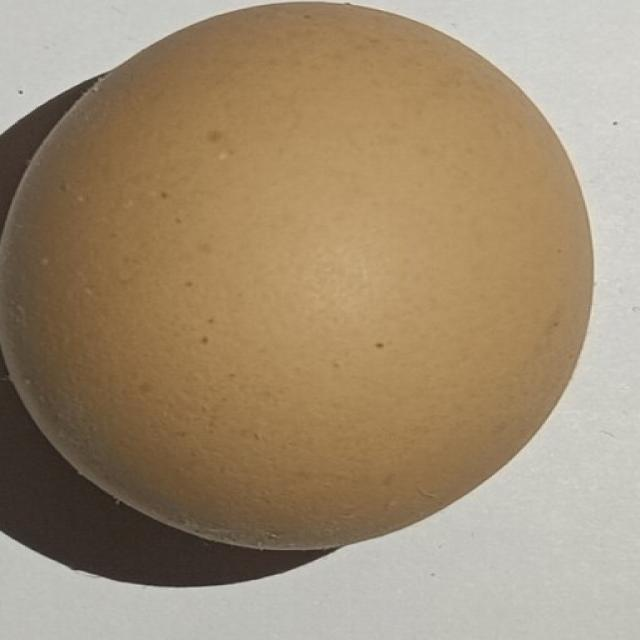fresh: (0, 0, 608, 564)
